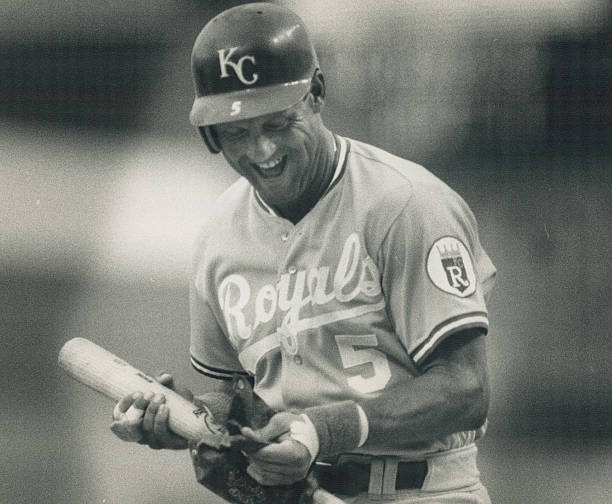bita: (64, 340, 266, 470)
